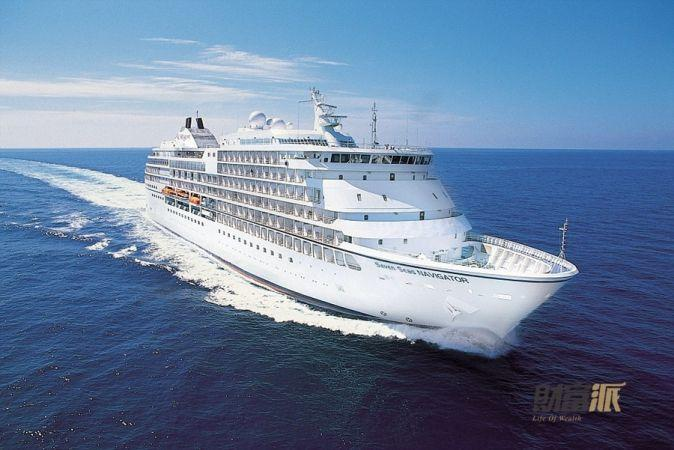youlun: (134, 87, 587, 340)
